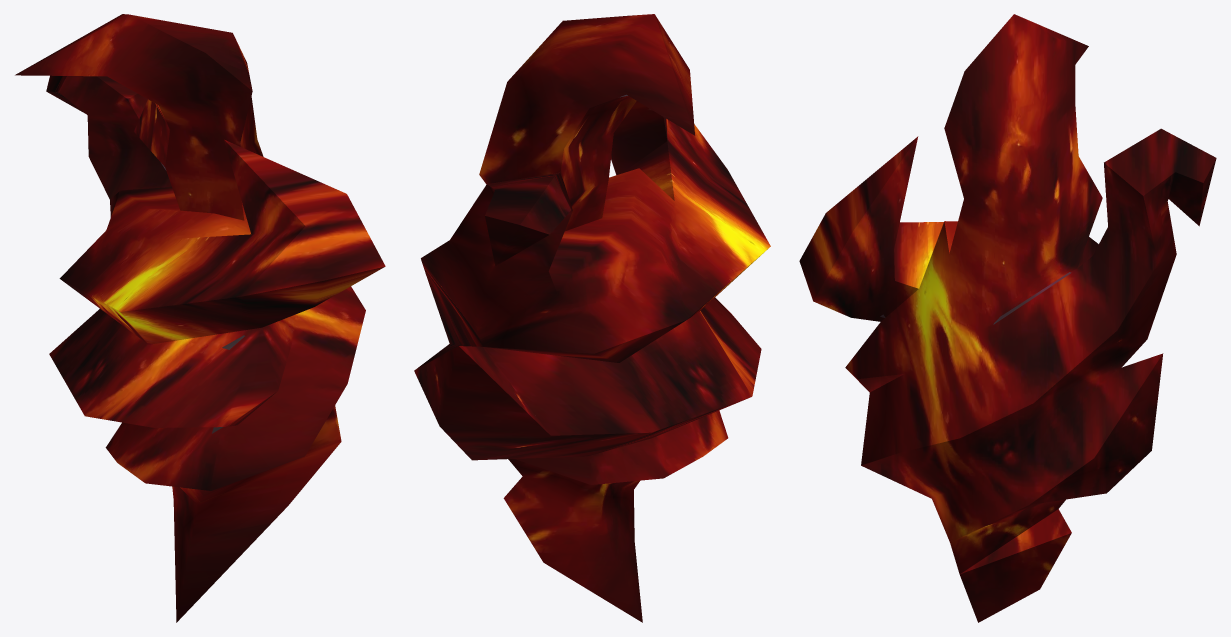
The picture shows the model from 3 angles, left to right: view 1: azimuth 30°, elevation 25°; view 2: azimuth 150°, elevation 25°; view 3: azimuth 270°, elevation 25°; orthographic projection. The views are drawn at different scales.
Size of the model in its own units: 0.9935 by 2 by 1.27.
Materials: 4 (4 with a texture image).
